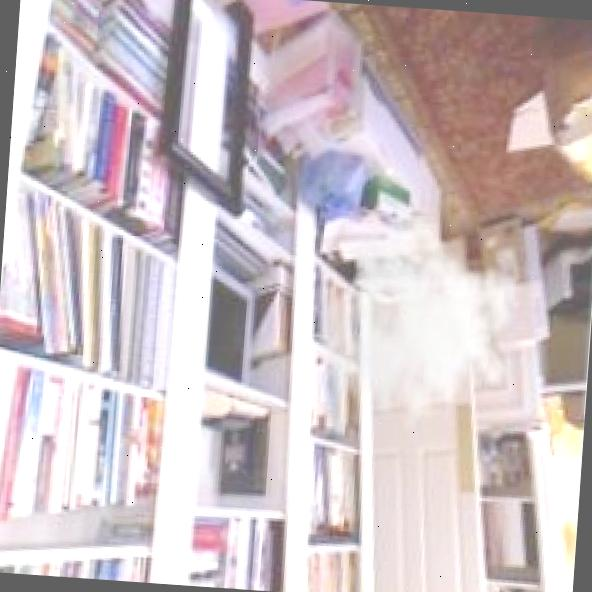smoke: (312, 201, 528, 454)
